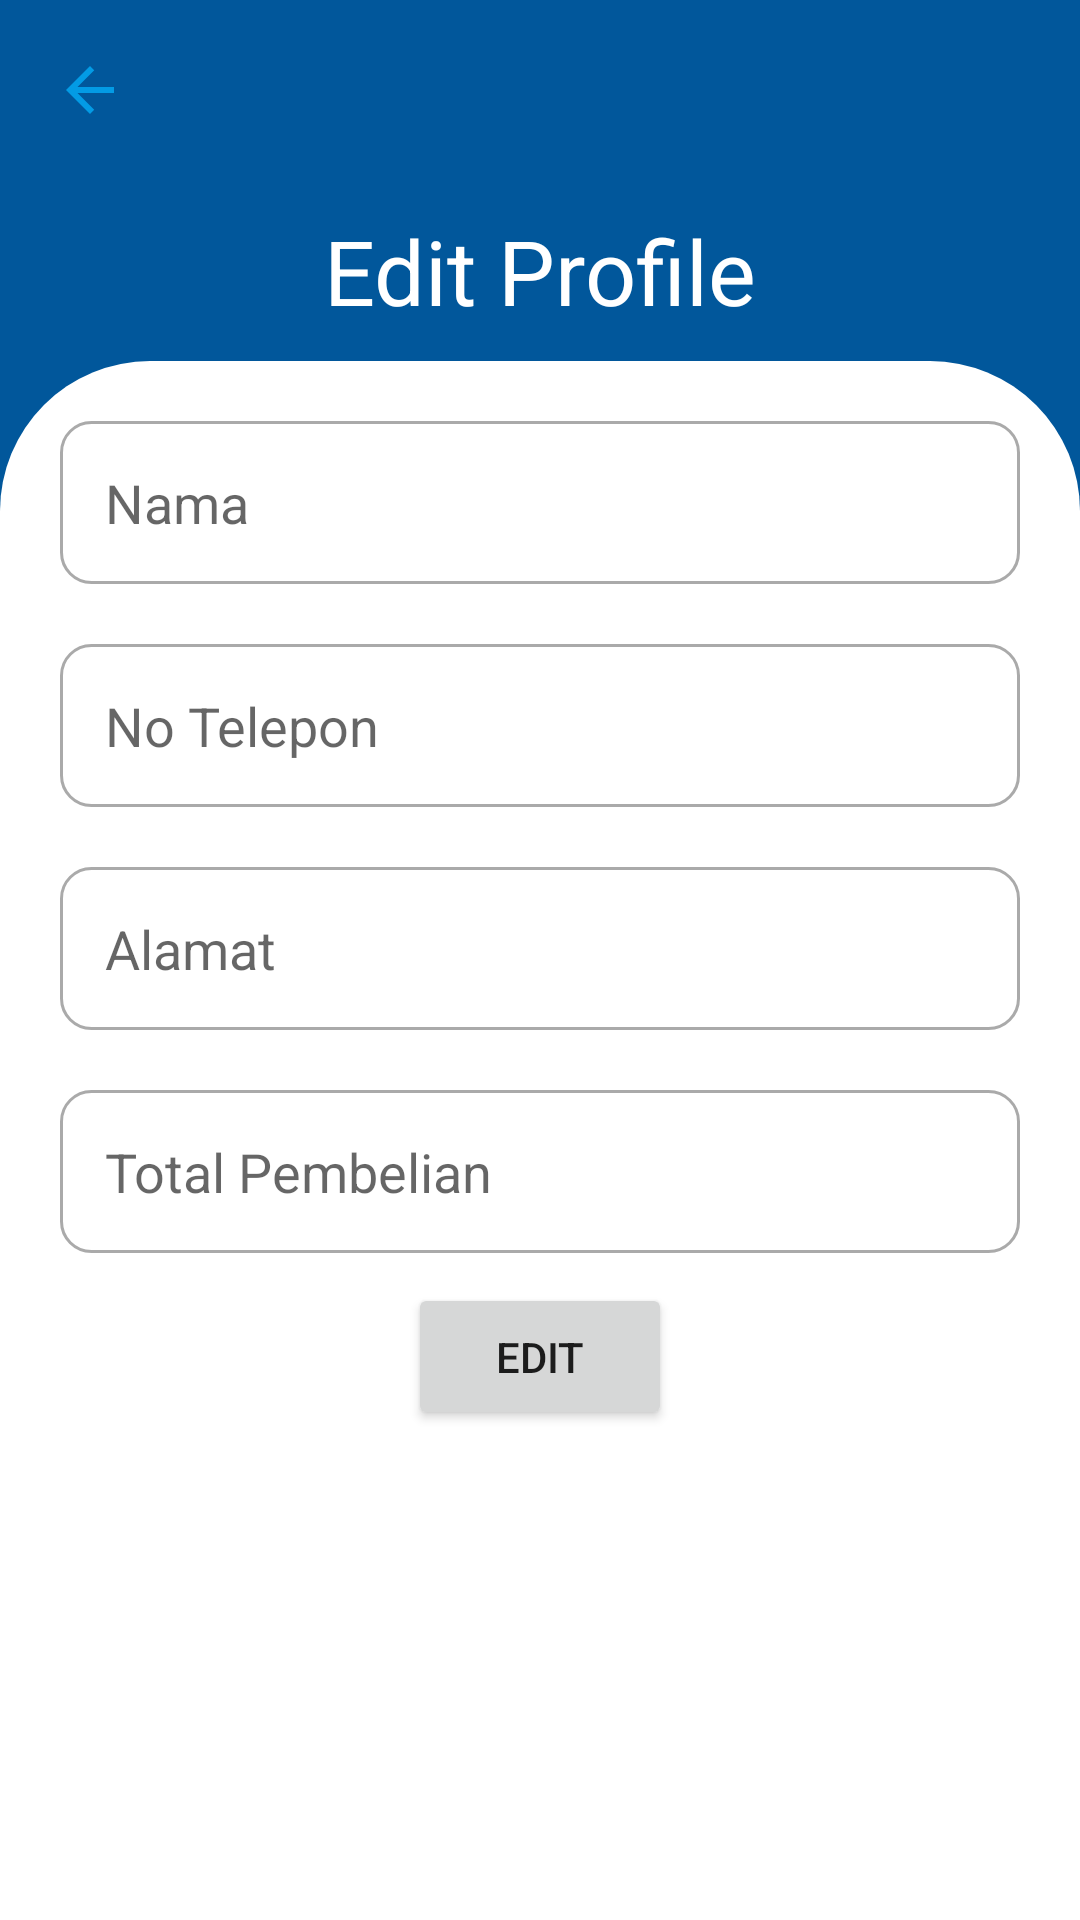

Icon bounding boxes for this 1080×1920 phone screenshot, format [x1, y1, x2, y2]:
arrow back for frag: [66, 66, 114, 114]
